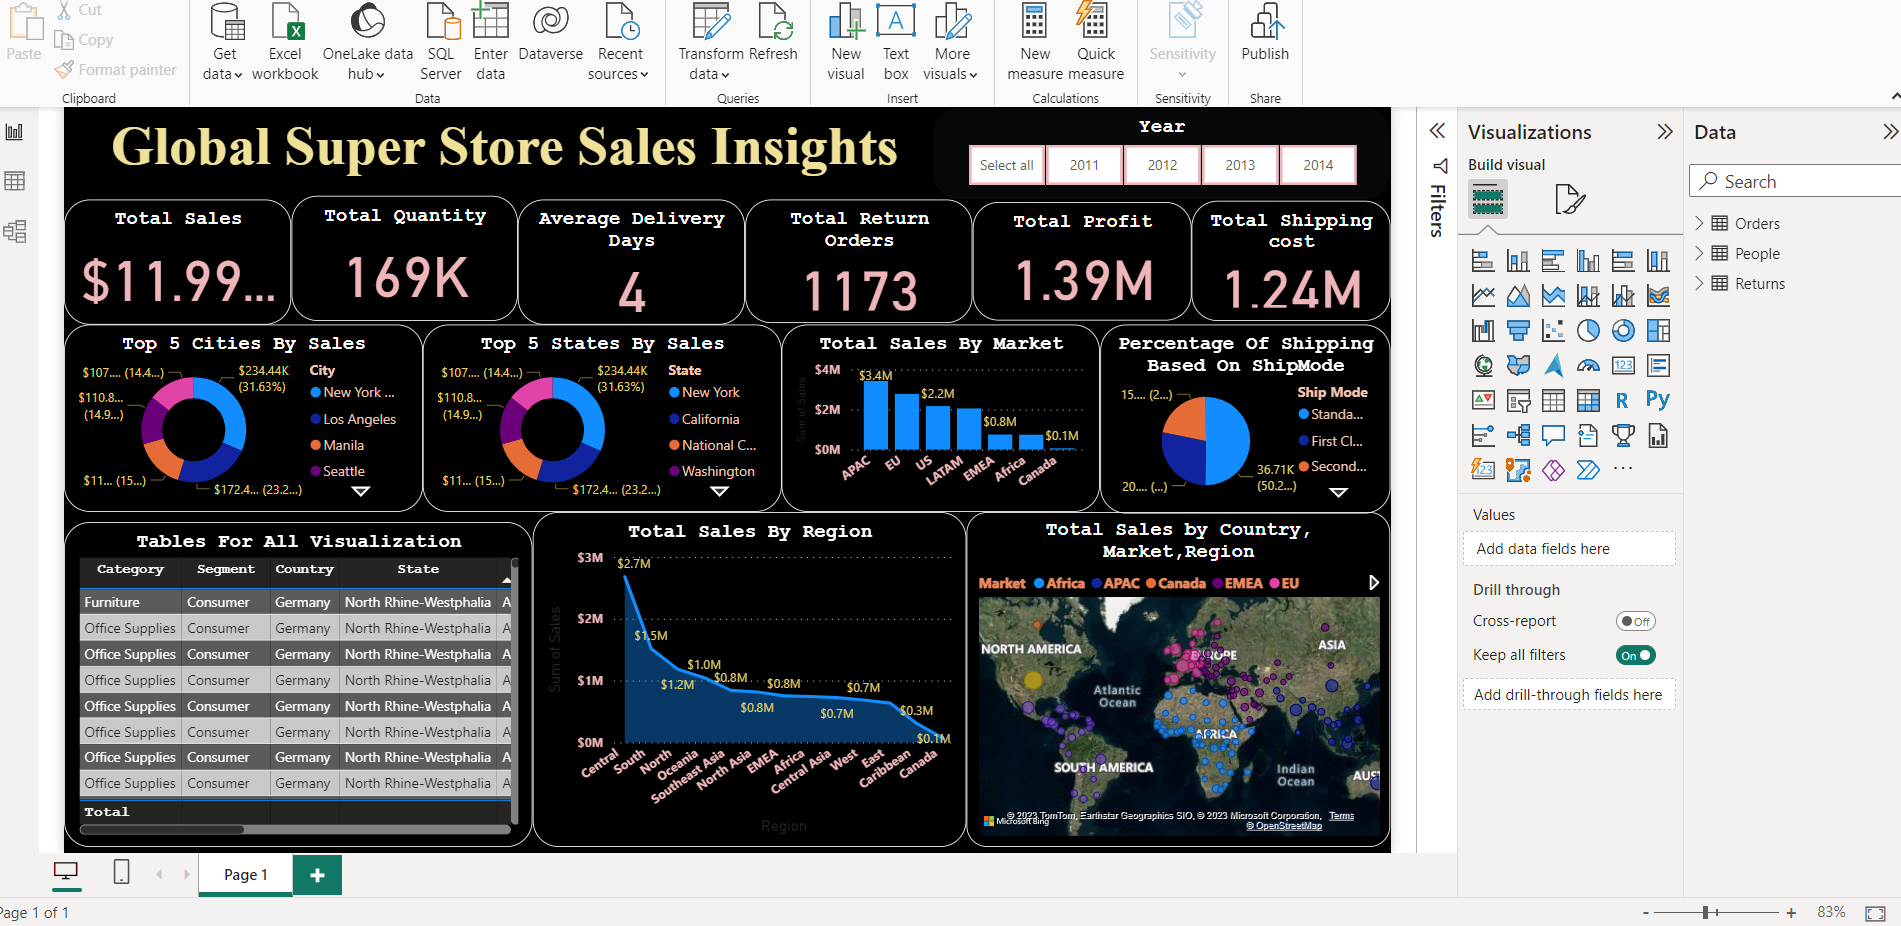

Layout of this report page (visuals, bound fields, positions):
{"tool":"powerbi","page":{"name":"Page 1","canvas":[1280,720],"ordinal":0},"visuals":[{"type":"card","title":"Total Sales","fields":{"Values":["Sum(Orders.Sales)"]},"box":[0,89.2,219.5,120.6],"z":0},{"type":"card","title":"Total Quantity","fields":{"Values":["Sum(Orders.Quantity)"]},"box":[219.5,85.6,218.3,120.6],"z":1},{"type":"card","title":"Average Delivery Days","fields":{"Values":["Avg(Orders.Delivery Days)"]},"box":[437.8,89.2,219.5,120.6],"z":2},{"type":"slicer","title":"Year","fields":{"Values":["Orders.Year"]},"box":[838.2,0,441.4,89.2],"z":3},{"type":"card","title":"Total  Return Orders","fields":{"Values":["Sum(Returns.Return Orders)"]},"box":[657.3,89.2,219.5,119.4],"z":4},{"type":"map","title":"Total Sales by Country, Market,Region","fields":{"Category":["Orders.Country","Orders.Region"],"Series":["Orders.Market"],"Size":["Sum(Orders.Sales)"]},"box":[870.8,390.8,408.8,323.2],"z":5},{"type":"card","title":"Total Profit","fields":{"Values":["Sum(Orders.Profit)"]},"box":[876.8,91.7,211.1,114.6],"z":7},{"type":"card","title":"Total Shipping cost","fields":{"Values":["Sum(Orders.Shipping Cost)"]},"box":[1087.8,90.5,191.8,115.8],"z":8},{"type":"donutChart","title":"Top 5 Cities By Sales","fields":{"Y":["Sum(Orders.Sales)"],"Category":["Orders.City"]},"box":[0,209.8,346.1,180.9],"z":9},{"type":"pieChart","title":"Percentage Of Shipping Based On ShipMode","fields":{"Category":["Orders.Ship Mode"],"Y":["Sum(Orders.Shipping Cost)"]},"box":[999.8,209.8,279.8,182.1],"z":10},{"type":"donutChart","title":"Top 5 States By Sales","fields":{"Y":["Sum(Orders.Sales)"],"Category":["Orders.State"]},"box":[346.1,209.8,346.1,180.9],"z":11},{"type":"columnChart","title":"Total Sales By Market","fields":{"Category":["Orders.Market"],"Y":["Sum(Orders.Sales)"]},"box":[692.3,209.8,307.5,180.9],"z":12},{"type":"areaChart","title":"Total Sales By Region","fields":{"Category":["Orders.Region"],"Y":["Sum(Orders.Sales)"]},"box":[452.3,390.8,418.5,323.2],"z":13},{"type":"tableEx","title":"Tables For All Visualization","fields":{"Values":["Orders.Category","Orders.Segment","Orders.Country","Orders.State","Orders.City","Orders.Market","Orders.Product ID","Sum(Orders.Quantity)","Sum(Orders.Sales)","Orders.Ship Mode"]},"box":[0,400.4,452.3,313.6],"z":14},{"type":"textbox","title":"Global Super Store Sales Insights","box":[12.1,7.2,826.1,66.3],"z":15}]}

Visuals, with their boxes on the page's 1280x720 design canvas (x1, y1, x2, y2). These are canvas units, not pixel positions in the 1901x926 screenshot, which may show the page scaled, cropped or inside an application window:
"Total Sales" card: x1=0, y1=89, x2=220, y2=210
"Total Quantity" card: x1=220, y1=86, x2=438, y2=206
"Average Delivery Days" card: x1=438, y1=89, x2=657, y2=210
"Year" slicer: x1=838, y1=0, x2=1280, y2=89
"Total  Return Orders" card: x1=657, y1=89, x2=877, y2=209
"Total Sales by Country, Market,Region" map: x1=871, y1=391, x2=1280, y2=714
"Total Profit" card: x1=877, y1=92, x2=1088, y2=206
"Total Shipping cost" card: x1=1088, y1=90, x2=1280, y2=206
"Top 5 Cities By Sales" donutChart: x1=0, y1=210, x2=346, y2=391
"Percentage Of Shipping Based On ShipMode" pieChart: x1=1000, y1=210, x2=1280, y2=392
"Top 5 States By Sales" donutChart: x1=346, y1=210, x2=692, y2=391
"Total Sales By Market" columnChart: x1=692, y1=210, x2=1000, y2=391
"Total Sales By Region" areaChart: x1=452, y1=391, x2=871, y2=714
"Tables For All Visualization" tableEx: x1=0, y1=400, x2=452, y2=714
"Global Super Store Sales Insights" textbox: x1=12, y1=7, x2=838, y2=74
